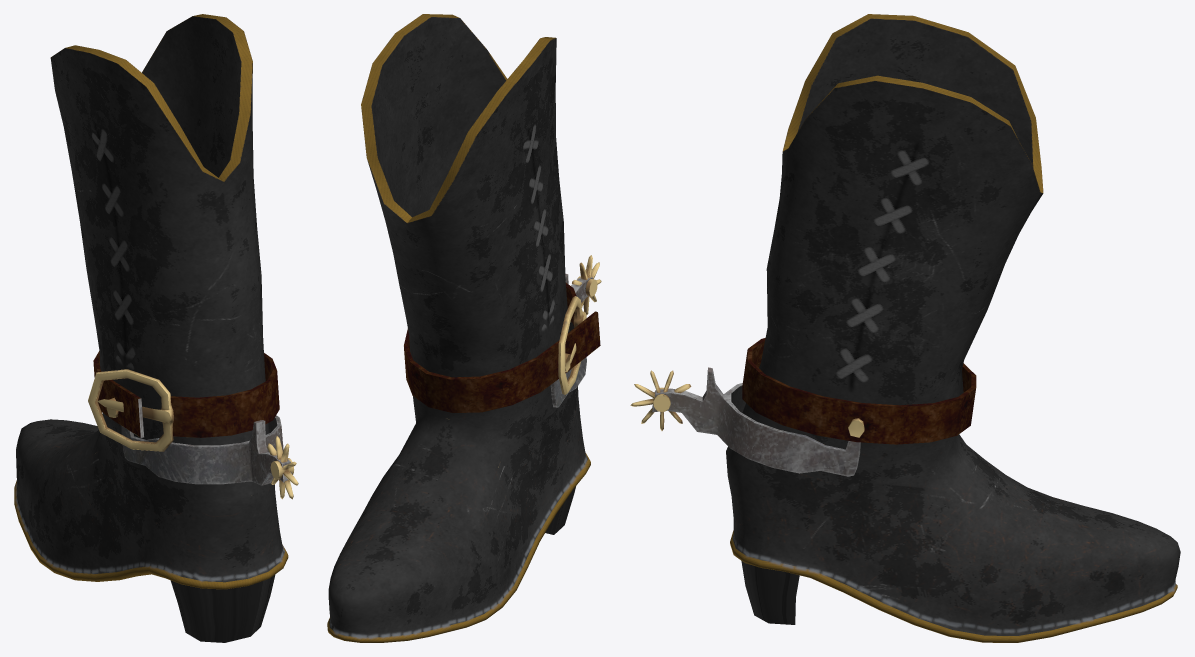
The picture shows the model from 3 angles, left to right: view 1: azimuth 30°, elevation 25°; view 2: azimuth 150°, elevation 25°; view 3: azimuth 270°, elevation 25°; orthographic projection. The views are drawn at different scales.
Parts seen in each view (by area): view 1: boot; view 2: boot; view 3: boot.
Boxes of the visible parts, x1,y1,x2,y2 form: boot: (14,14,298,642); boot: (327,14,601,642); boot: (630,14,1180,642).
Size of the model in its own units: 0.3632 by 1.18 by 1.05.
1 material, 1 textured.
